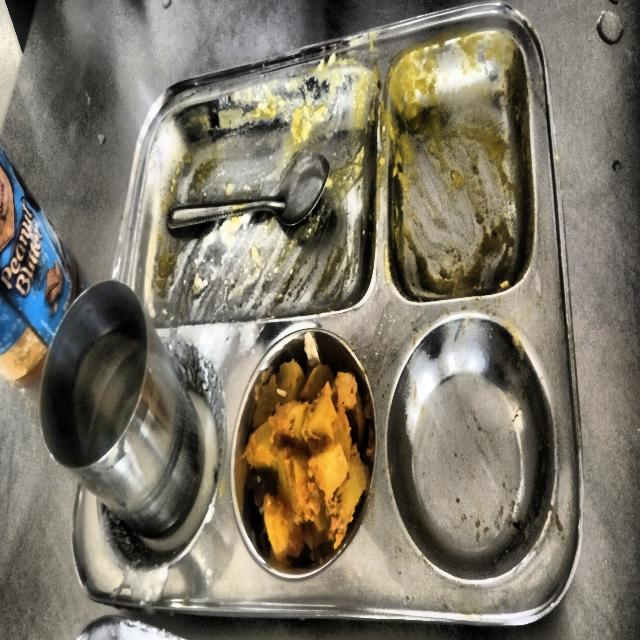Salad-onion: (244, 359, 368, 548)
